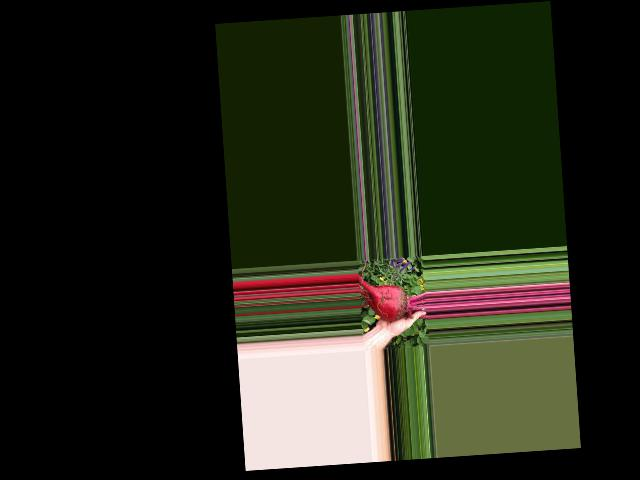beet: (357, 269, 427, 323)
